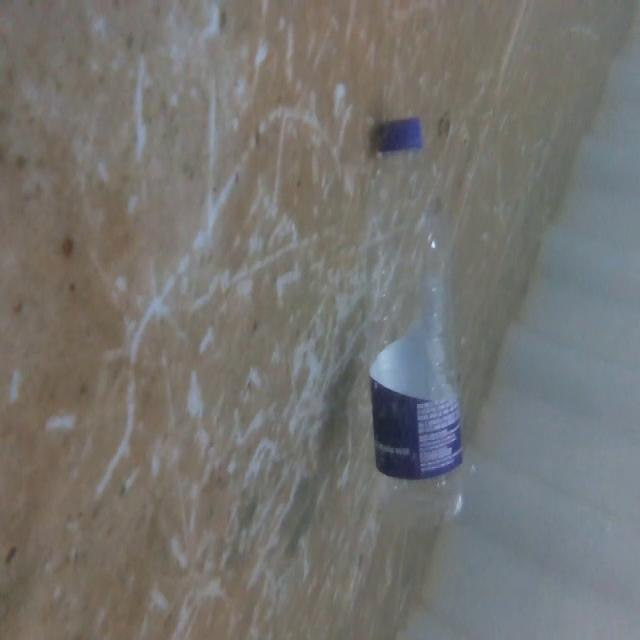plastic bottle: (359, 106, 473, 530)
